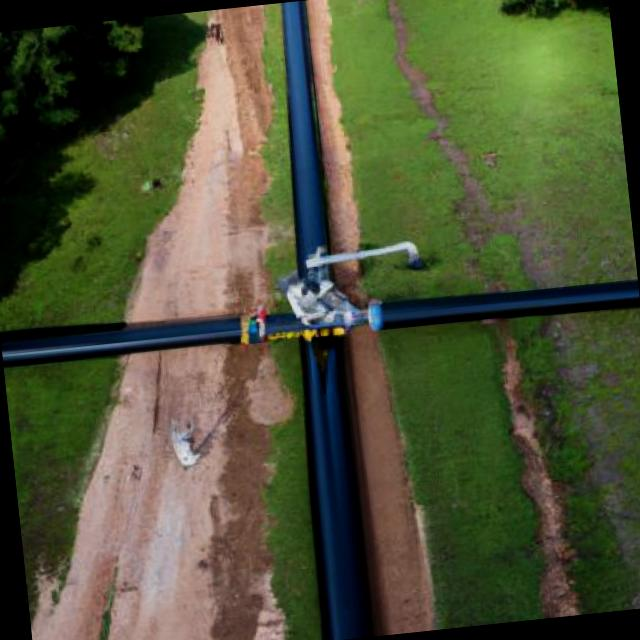gas: (251, 0, 380, 640), (0, 261, 640, 372)
